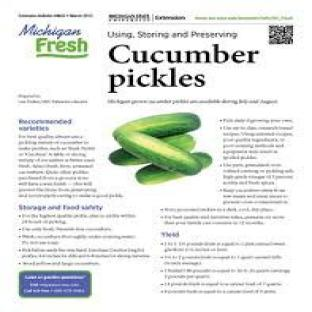Cucumber: (118, 131, 202, 174), (113, 113, 201, 139), (137, 166, 185, 184), (110, 149, 148, 165)
